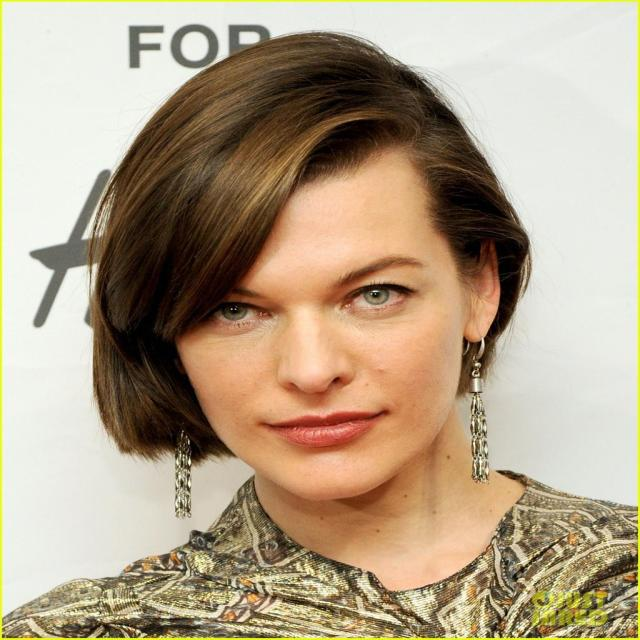Face: (158, 154, 474, 527)
